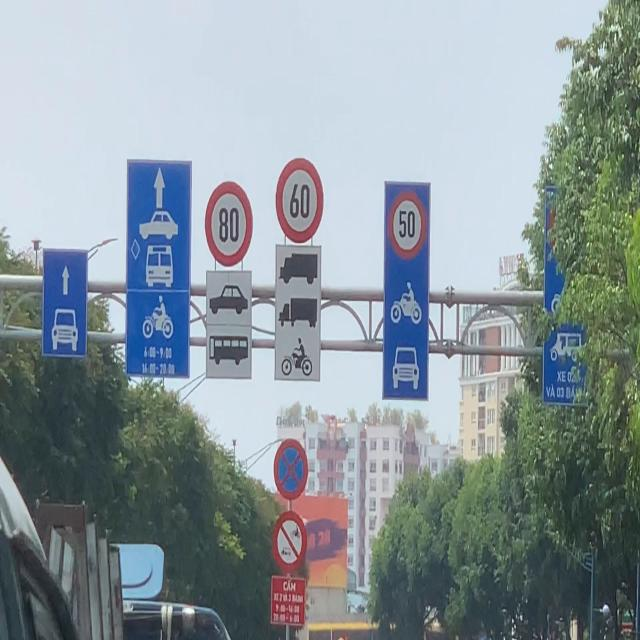Cam dung va do: (272, 436, 310, 503)
Toc do toi da: (205, 183, 254, 268), (275, 159, 324, 243), (387, 188, 428, 258)
